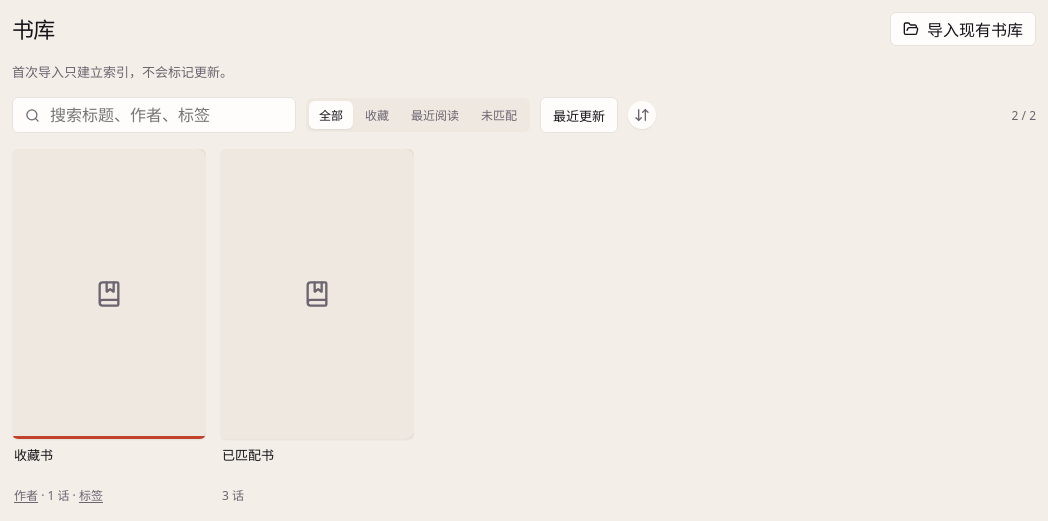
LibraryView toolbar › filters by author when the author label is clicked
The image size is (1048, 521).
What coordinates should you click on to do the following:
click the link "作者"
I would click on:
 (26, 496)
Its box is [14, 488, 38, 504].
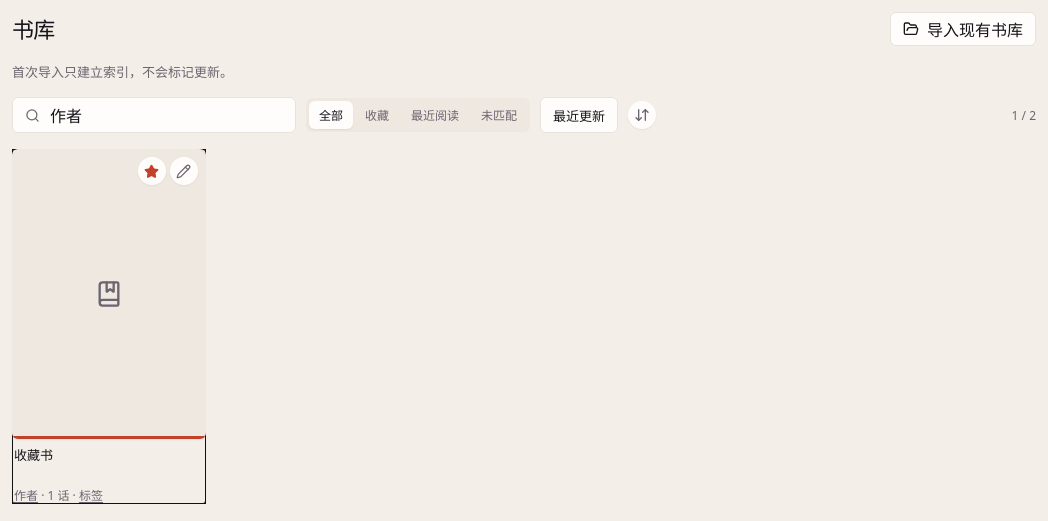
Expected: the heading "收藏书" is shown, [14, 446, 53, 464]
Now the button "已匹配书" is gone
